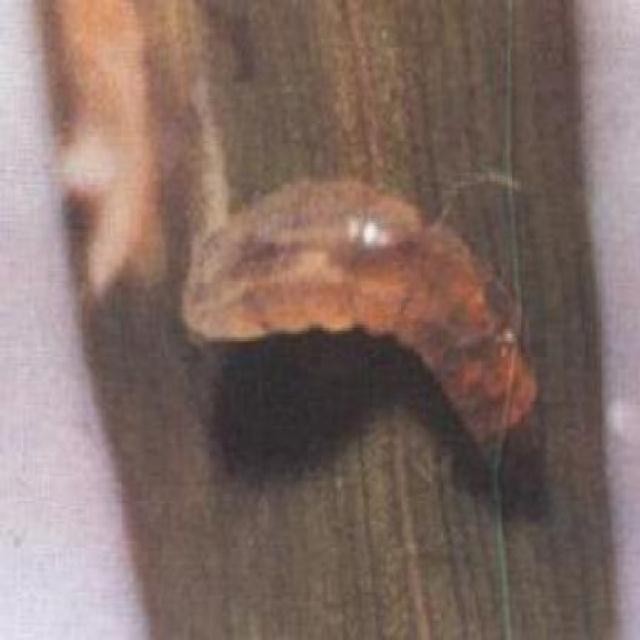whorl-maggot: (182, 169, 542, 457)
